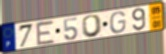5: (63, 16, 79, 41)
7: (17, 23, 35, 48)
9: (131, 8, 147, 32)
E: (35, 20, 57, 47)
G: (109, 11, 127, 35)
O: (81, 14, 104, 39)
